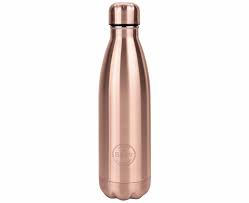bottle: (94, 1, 154, 202)
